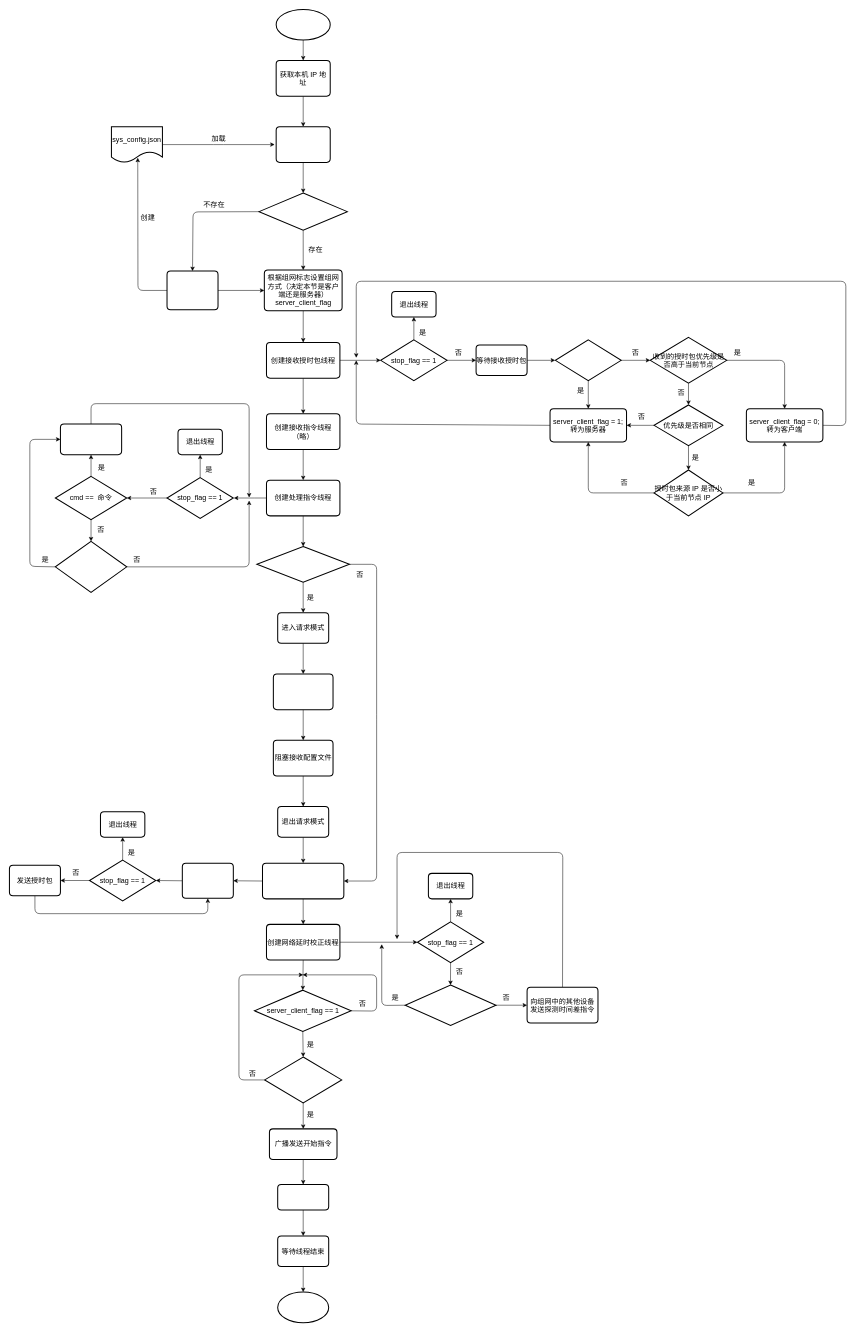
Some shapes in this 859 by 1332 pixel diagram are drawn without their labels. The box of each missing label's shape, as (x1, y1, x2, y2) in pixels:
16ms 定时器: (182, 862, 234, 899)
server_client_flag == 0: (256, 546, 350, 582)
其他命令分支 （略）: (55, 541, 127, 593)
创建广播发送授时包线程: (262, 862, 344, 899)
初始化并创建文件: (166, 270, 218, 310)
加载配置: (275, 126, 330, 163)
发送替换节点指令: (273, 673, 333, 710)
发送视频: (277, 1184, 329, 1210)
开始: (275, 9, 330, 40)
所有客户端是否就绪: (264, 1056, 342, 1103)
执行相应的操作: (60, 423, 122, 455)
是否超时 80 ms: (555, 339, 621, 381)
组网中节点数量 < 2: (404, 984, 496, 1026)
结束: (277, 1291, 329, 1323)
配置文件是否存在: (258, 192, 348, 231)
